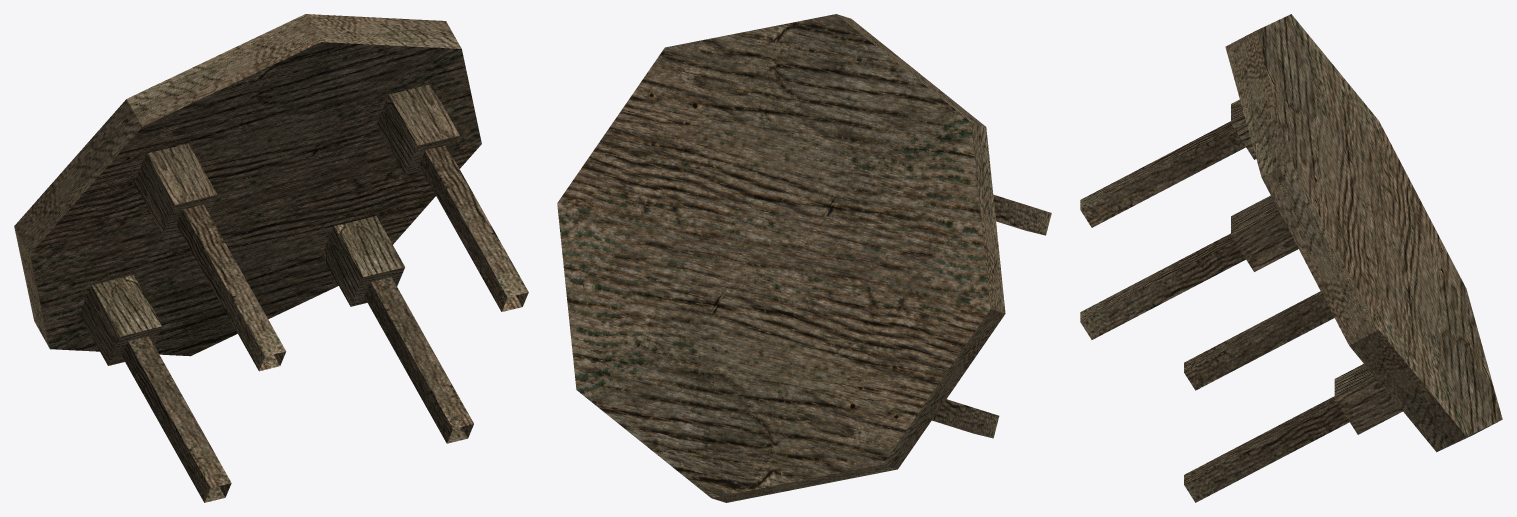
Rendered from mm9_deco_tableround2p60.glb.
The picture shows the model from 3 angles, left to right: view 1: azimuth 30°, elevation 25°; view 2: azimuth 150°, elevation 25°; view 3: azimuth 270°, elevation 25°; orthographic projection. The views are drawn at different scales.
Parts seen in each view (by area): view 1: Tableround2p60; view 2: Tableround2p60; view 3: Tableround2p60.
Part boxes in pixels (left/top/right/bottom): Tableround2p60: left=14, top=14, right=528, bottom=502; Tableround2p60: left=557, top=14, right=1051, bottom=502; Tableround2p60: left=1080, top=14, right=1502, bottom=502.
Bounding box in the file's own units: 2 × 1.83 × 1.71.
Materials: 2 (2 with a texture image).
